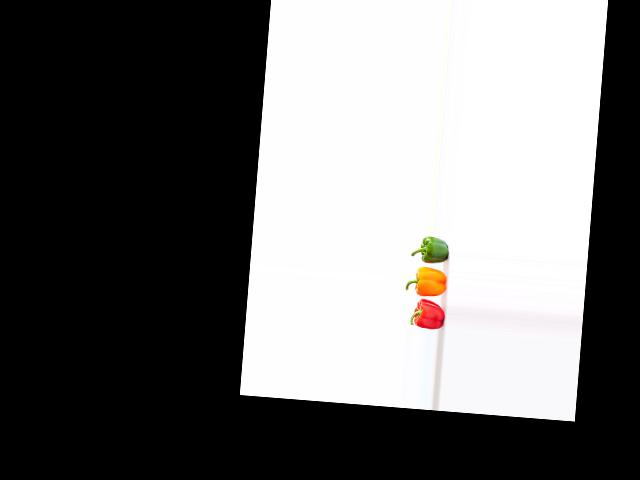bell_pepper: (402, 297, 445, 332)
